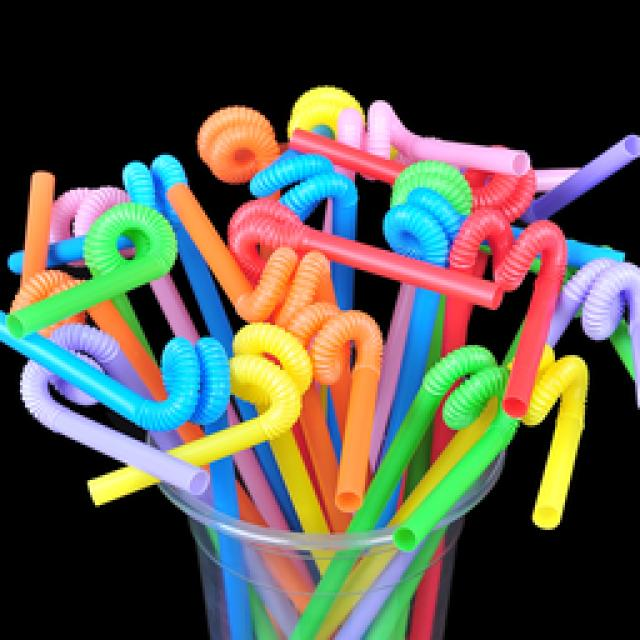plastic: (0, 85, 638, 637)
